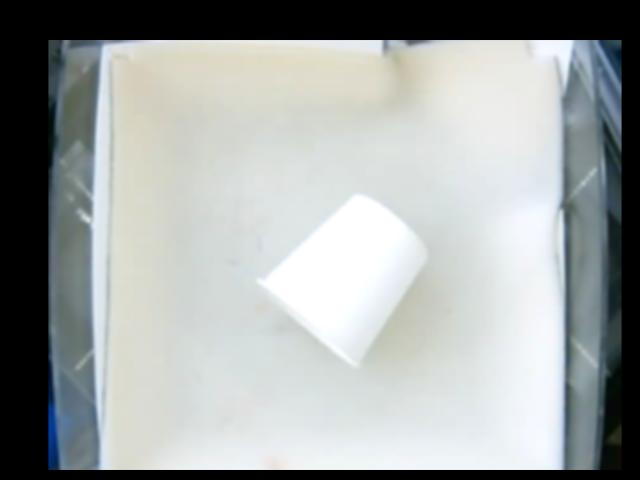Cup: (256, 193, 426, 368)
